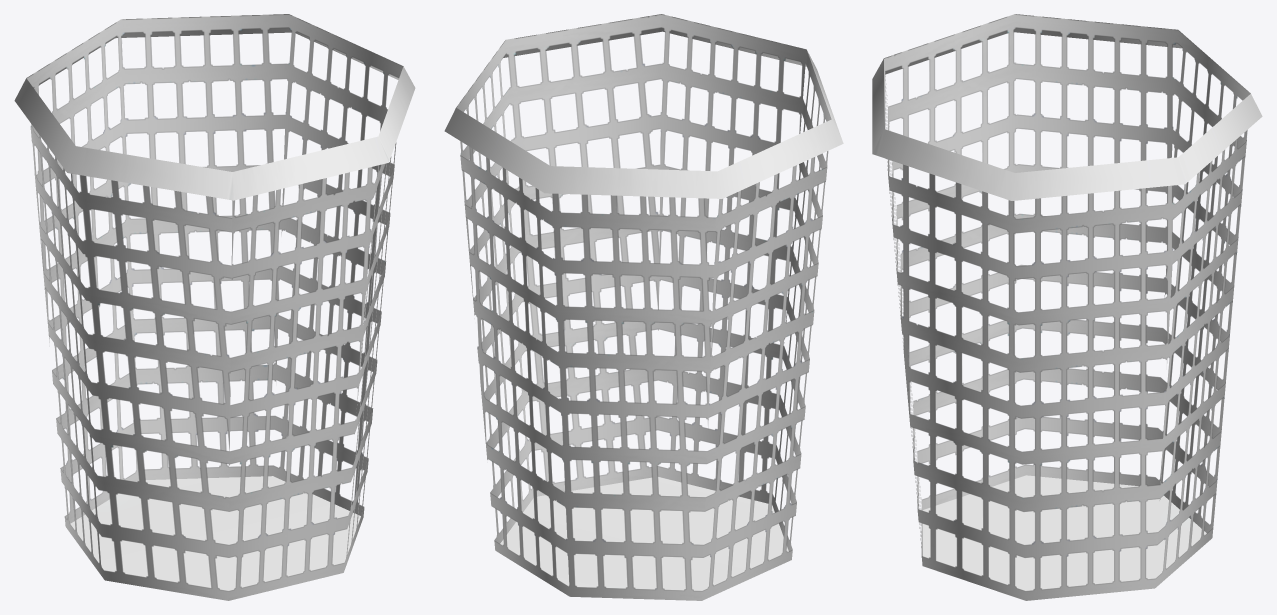
Rendered from Basket-col.glb.
3 renders of one model, left to right at view 1: azimuth 30°, elevation 25°; view 2: azimuth 150°, elevation 25°; view 3: azimuth 270°, elevation 25°, orthographic.
Parts seen in each view (by area): view 1: Basket-col; view 2: Basket-col; view 3: Basket-col.
Part boxes in pixels (x1,y1,x2,y2): Basket-col: (14, 14, 415, 600); Basket-col: (444, 14, 843, 600); Basket-col: (872, 14, 1262, 600).
Size of the model in its own units: 0.7713 by 0.9455 by 0.7519.
Materials: 1 (1 with a texture image).
